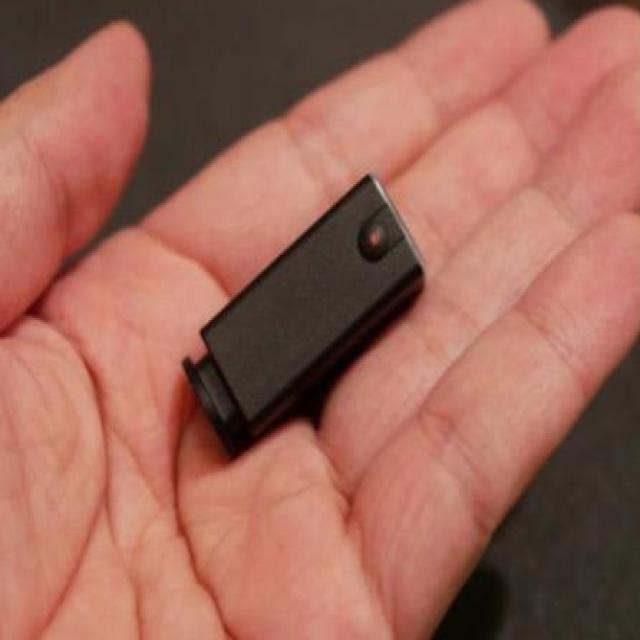hidden camera: (355, 205, 398, 270)
